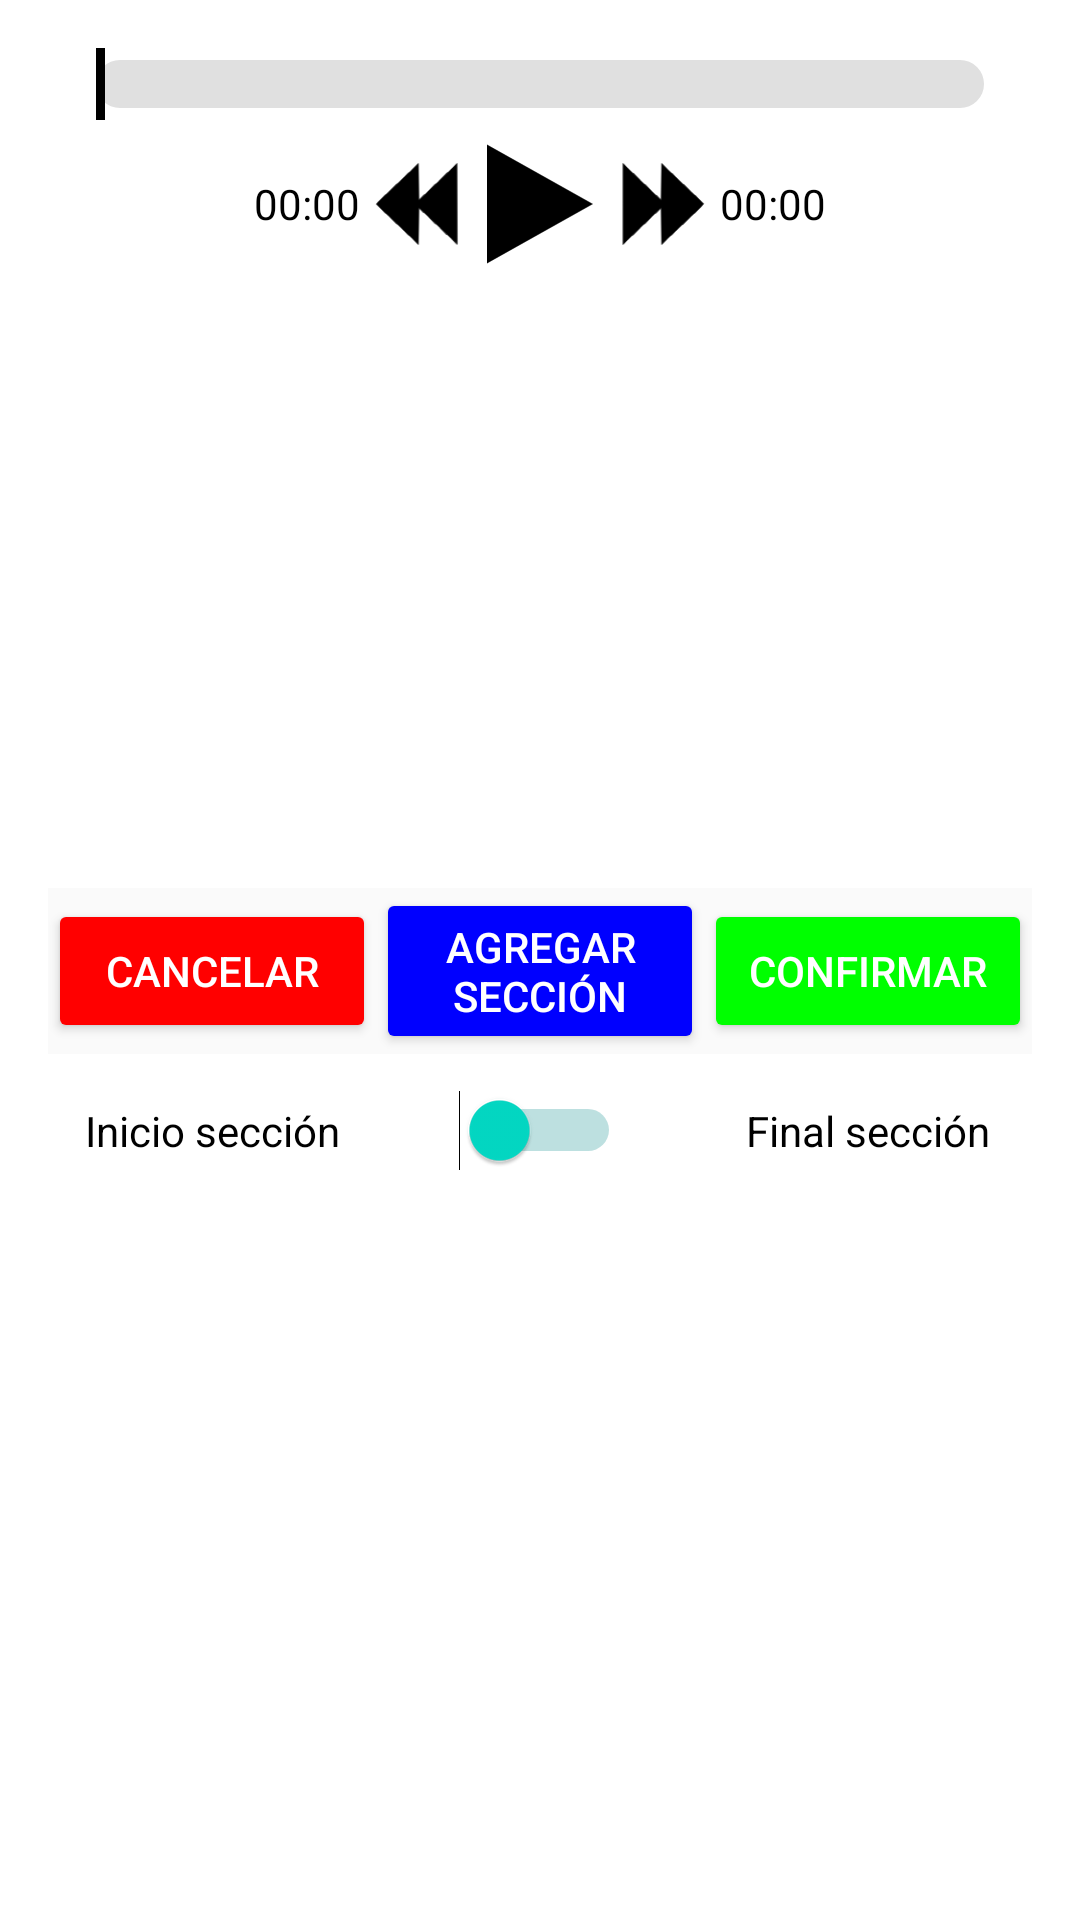

Screen size 1080x1920. Icon name, then its center in pixels as [x,y]:
iconoplay: [540,204]
